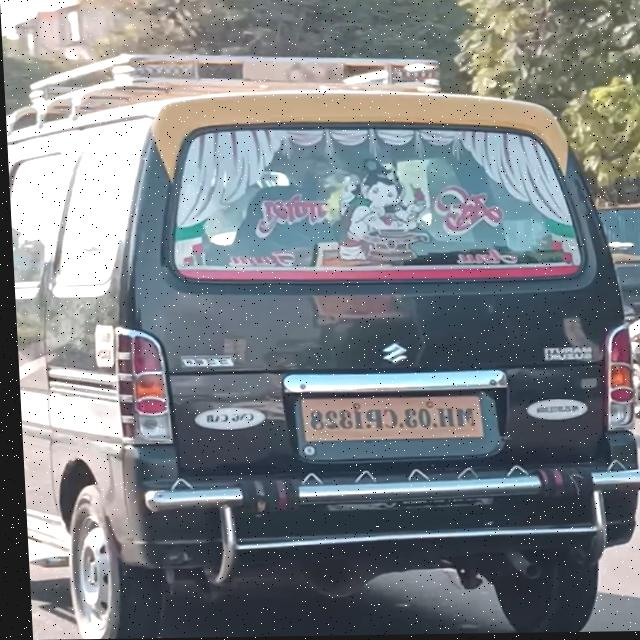plate: (288, 392, 484, 450)
